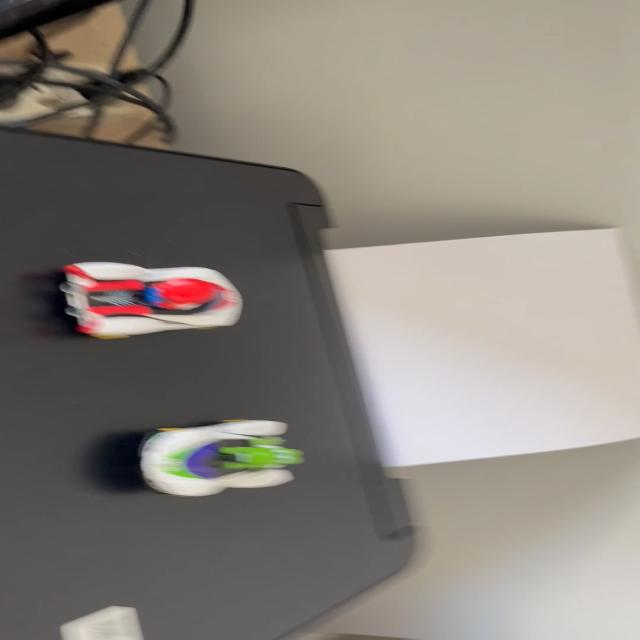mario: (41, 255, 262, 346)
yoshi: (123, 412, 315, 502)
